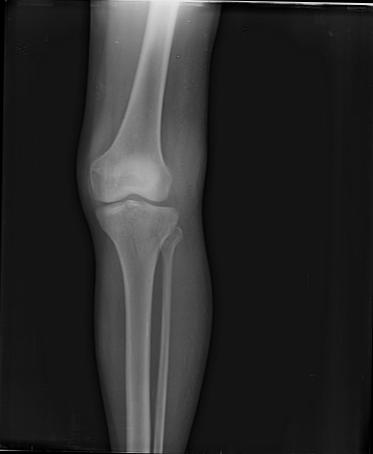fractured: (114, 198, 145, 271)
